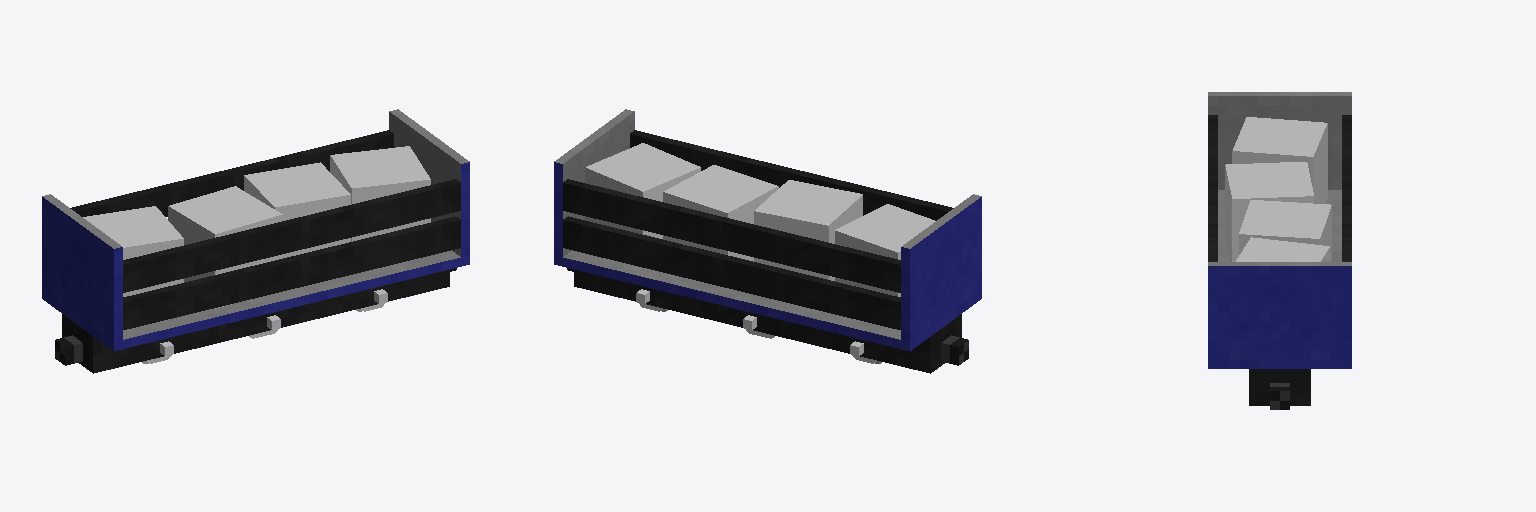
3 renders of one model, left to right at view 1: azimuth 30°, elevation 25°; view 2: azimuth 150°, elevation 25°; view 3: azimuth 270°, elevation 25°, orthographic.
Parts seen in each view (by area): view 1: FRAME.002, FRAME.001, FRAME, CARGO_FILL_30, CARGO_FILL_90, CARGO_FILL_60, CARGO_FILL_1, FRAME.couple.001; view 2: FRAME.002, FRAME.001, FRAME, CARGO_FILL_30, CARGO_FILL_90, CARGO_FILL_60, CARGO_FILL_1, FRAME.couple.001; view 3: FRAME.001, CARGO_FILL_1, CARGO_FILL_30, CARGO_FILL_90, FRAME.002, FRAME, CARGO_FILL_60, FRAME.couple.
Boxes of the visible parts, box(x1,y1,x2,y2) form: FRAME.002: box(70, 130, 460, 329); FRAME.001: box(42, 109, 469, 350); FRAME: box(62, 270, 449, 373); CARGO_FILL_30: box(168, 186, 282, 308); CARGO_FILL_90: box(244, 162, 350, 257); CARGO_FILL_60: box(330, 146, 430, 241); CARGO_FILL_1: box(83, 206, 183, 296); FRAME.couple.001: box(55, 335, 82, 365); FRAME.002: box(563, 130, 953, 329); FRAME.001: box(554, 109, 981, 350); FRAME: box(574, 270, 961, 373); CARGO_FILL_30: box(754, 180, 862, 280); CARGO_FILL_90: box(663, 165, 778, 261); CARGO_FILL_60: box(585, 143, 700, 238); CARGO_FILL_1: box(835, 204, 935, 296); FRAME.couple.001: box(941, 335, 968, 365); FRAME.001: box(1208, 92, 1351, 368); CARGO_FILL_1: box(1232, 117, 1327, 203); CARGO_FILL_30: box(1225, 162, 1313, 261); CARGO_FILL_90: box(1239, 200, 1331, 261); FRAME.002: box(1208, 115, 1351, 261); FRAME: box(1249, 369, 1310, 405); CARGO_FILL_60: box(1236, 237, 1329, 261); FRAME.couple: box(1270, 383, 1289, 409).
Bounding box in the file's own units: 2.75 × 1.03 × 0.875.
4 materials, 2 textured.